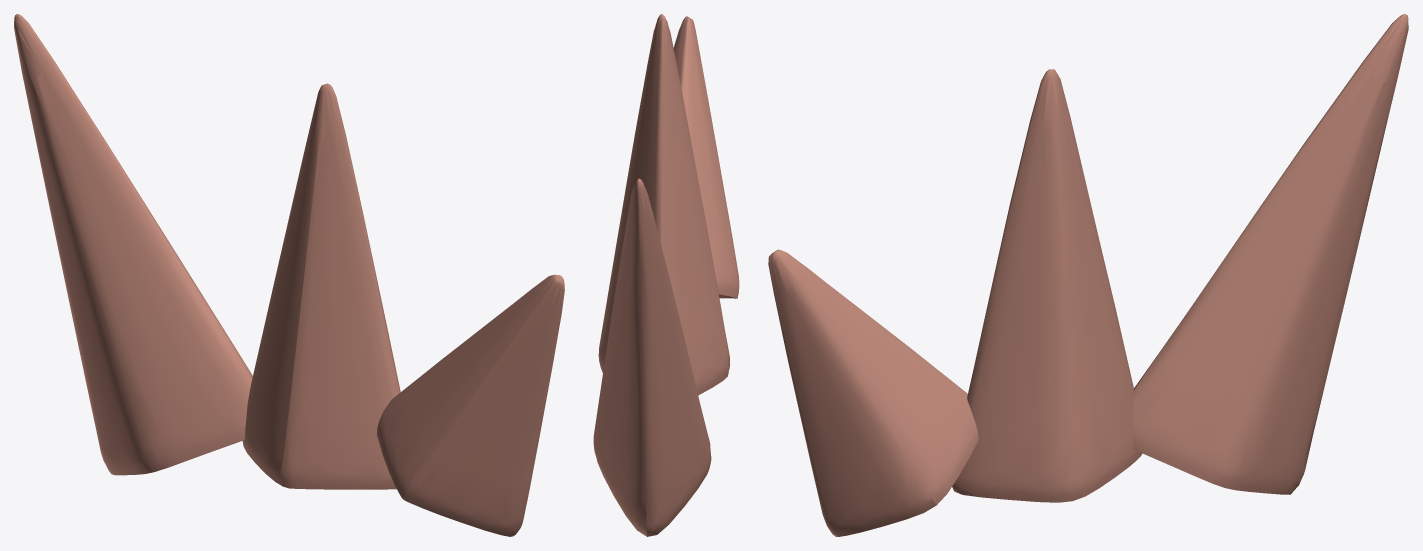
3 renders of one model, left to right at view 1: azimuth 30°, elevation 25°; view 2: azimuth 150°, elevation 25°; view 3: azimuth 270°, elevation 25°, orthographic. The views are drawn at different scales.
Visible parts, largest first — view 1: 451; view 2: 451; view 3: 451.
Part boxes in pixels (x1,y1,x2,y2): 451: (14,14,564,536); 451: (593,14,739,536); 451: (768,14,1408,536).
Size of the model in its own units: 30.88 by 62.76 by 51.31.
